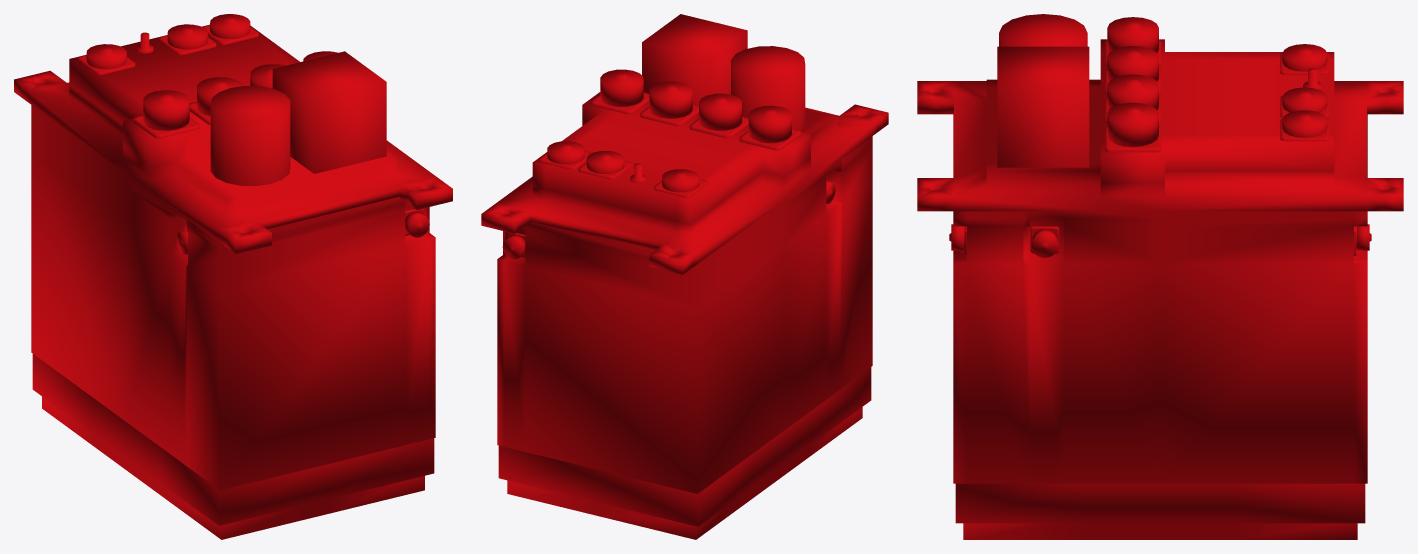
The model's file is Cargo_PTAB.fbx.
3 renders of one model, left to right at view 1: azimuth 30°, elevation 25°; view 2: azimuth 150°, elevation 25°; view 3: azimuth 270°, elevation 25°, orthographic. The views are drawn at different scales.
Parts seen in each view (by area): view 1: Cargo_PTAB; view 2: Cargo_PTAB; view 3: Cargo_PTAB.
Part boxes in pixels (<box>): Cargo_PTAB: <box>14,14,452,539</box>; Cargo_PTAB: <box>481,14,888,539</box>; Cargo_PTAB: <box>917,14,1403,539</box>.
Bounding box in the file's own units: 180 × 319 × 318.
